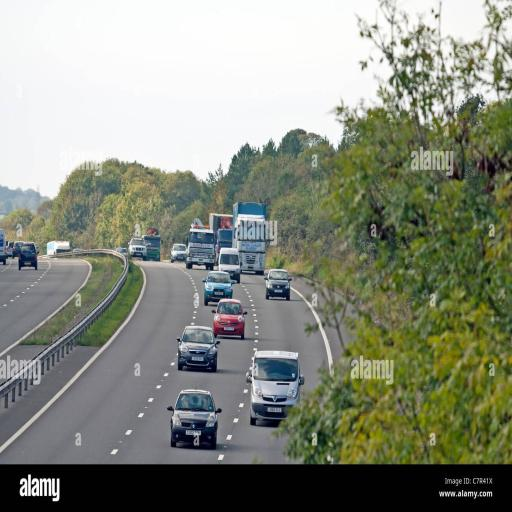car: (246, 350, 304, 423), (166, 388, 222, 449), (176, 324, 220, 372), (212, 298, 248, 340), (202, 270, 233, 306), (264, 268, 292, 300), (18, 241, 38, 270), (170, 243, 187, 262)
truck: (232, 202, 278, 274), (47, 240, 70, 255), (0, 228, 6, 264)
